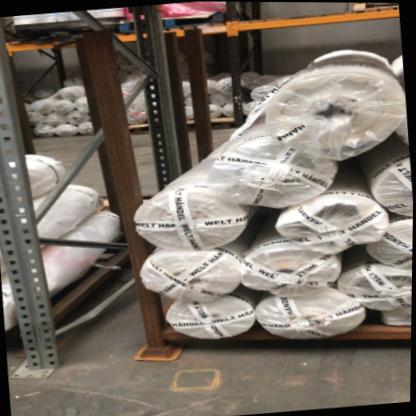vertical_damage: (15, 313, 72, 382)
